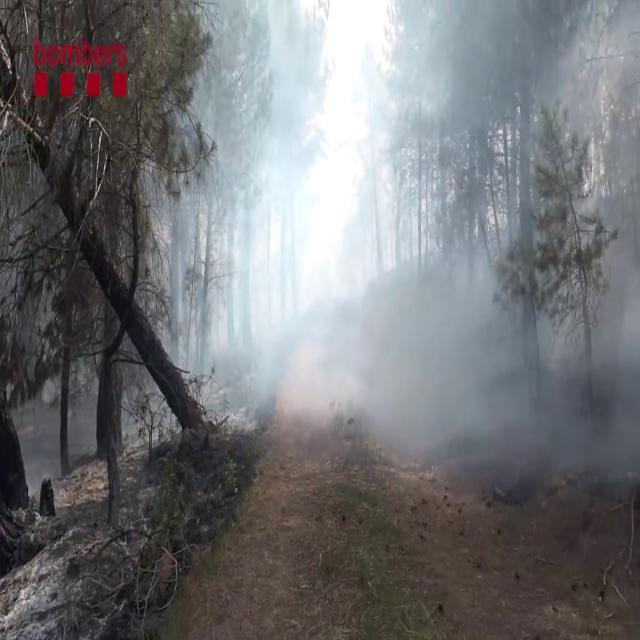Smoke: (162, 0, 640, 486)
